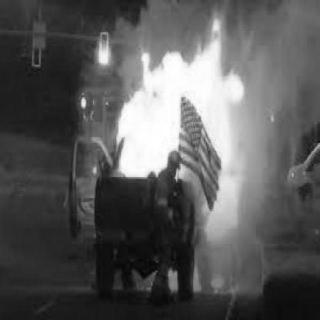Fire: (121, 37, 241, 227)
